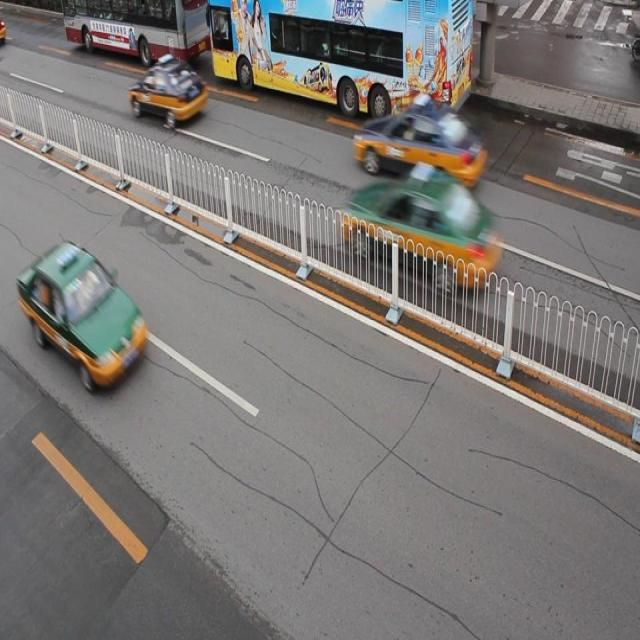car: (343, 162, 500, 290), (18, 238, 149, 386), (354, 100, 486, 193), (130, 57, 208, 128)
van: (208, 1, 472, 126), (61, 1, 217, 64)
